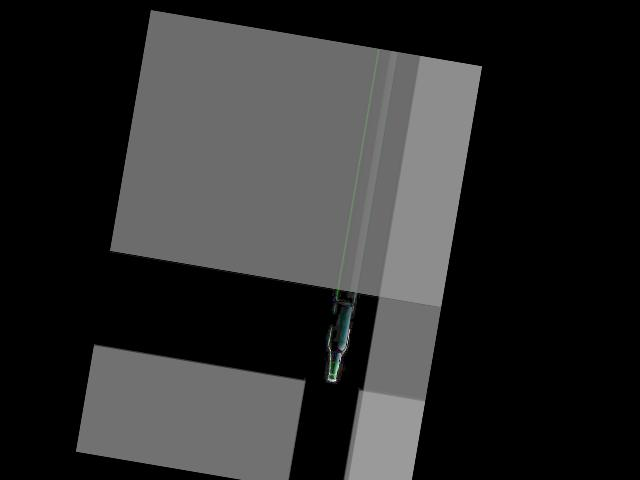beer: (322, 302, 355, 383)
